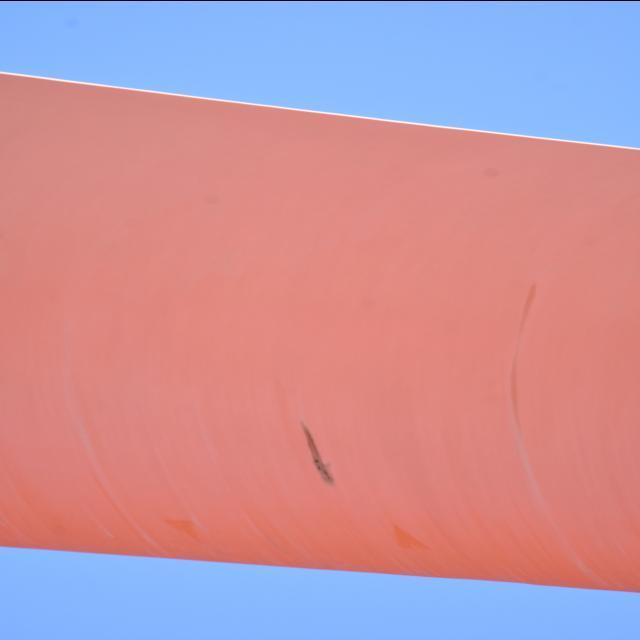Coating_defects: (299, 421, 333, 485)
